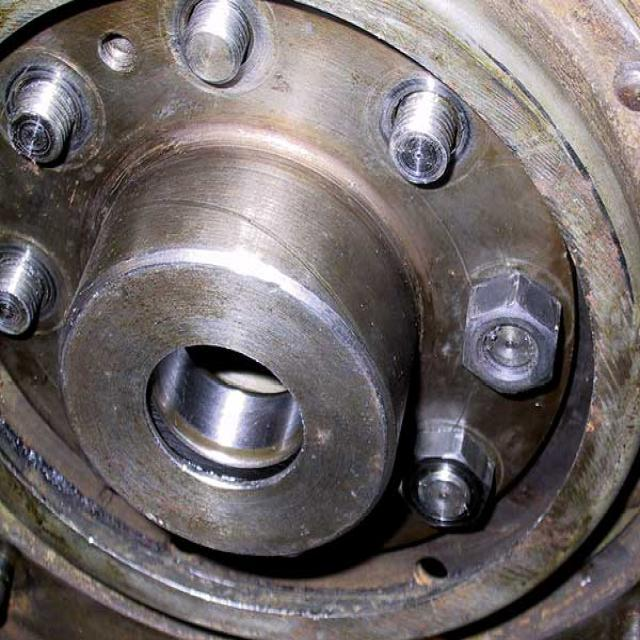bolt nut: (459, 268, 562, 400), (397, 426, 498, 536)
